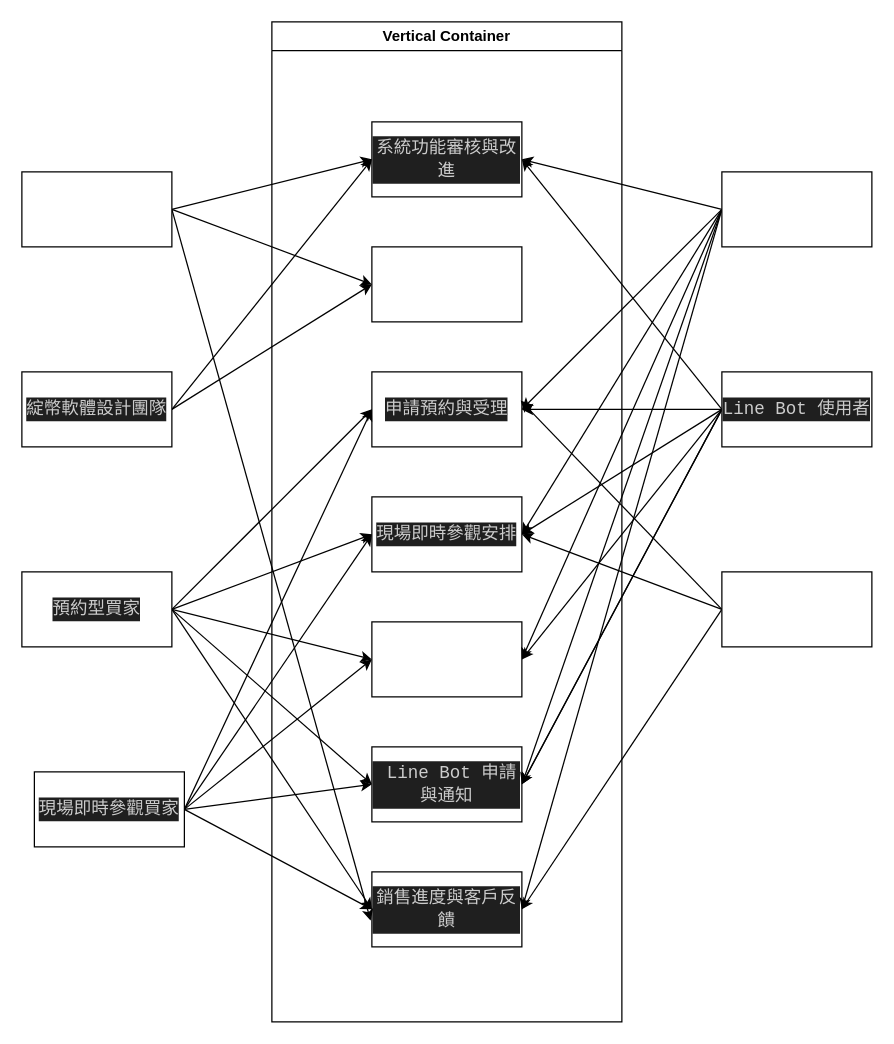
Image size: 894x1044. Some labels were removed from this diagram. Each missing label, with the box of its shape:
代銷公司主管: (21, 171, 172, 247)
代銷管理者: (721, 171, 872, 247)
房地產開發商: (721, 571, 872, 647)
申請審核與代銷分派: (371, 621, 522, 697)
系統開發與更新: (371, 246, 522, 322)
